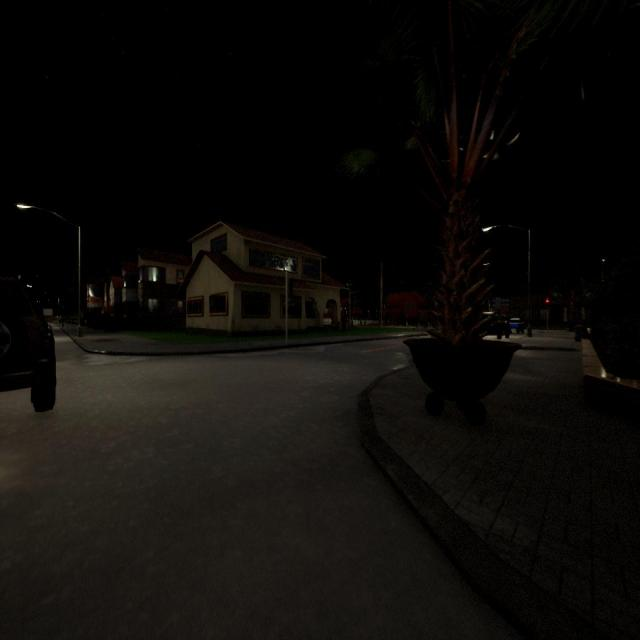Vehicle: (0, 278, 56, 412), (483, 312, 509, 341), (510, 318, 524, 334)
traffic_light: (288, 277, 292, 299), (545, 299, 549, 309)
